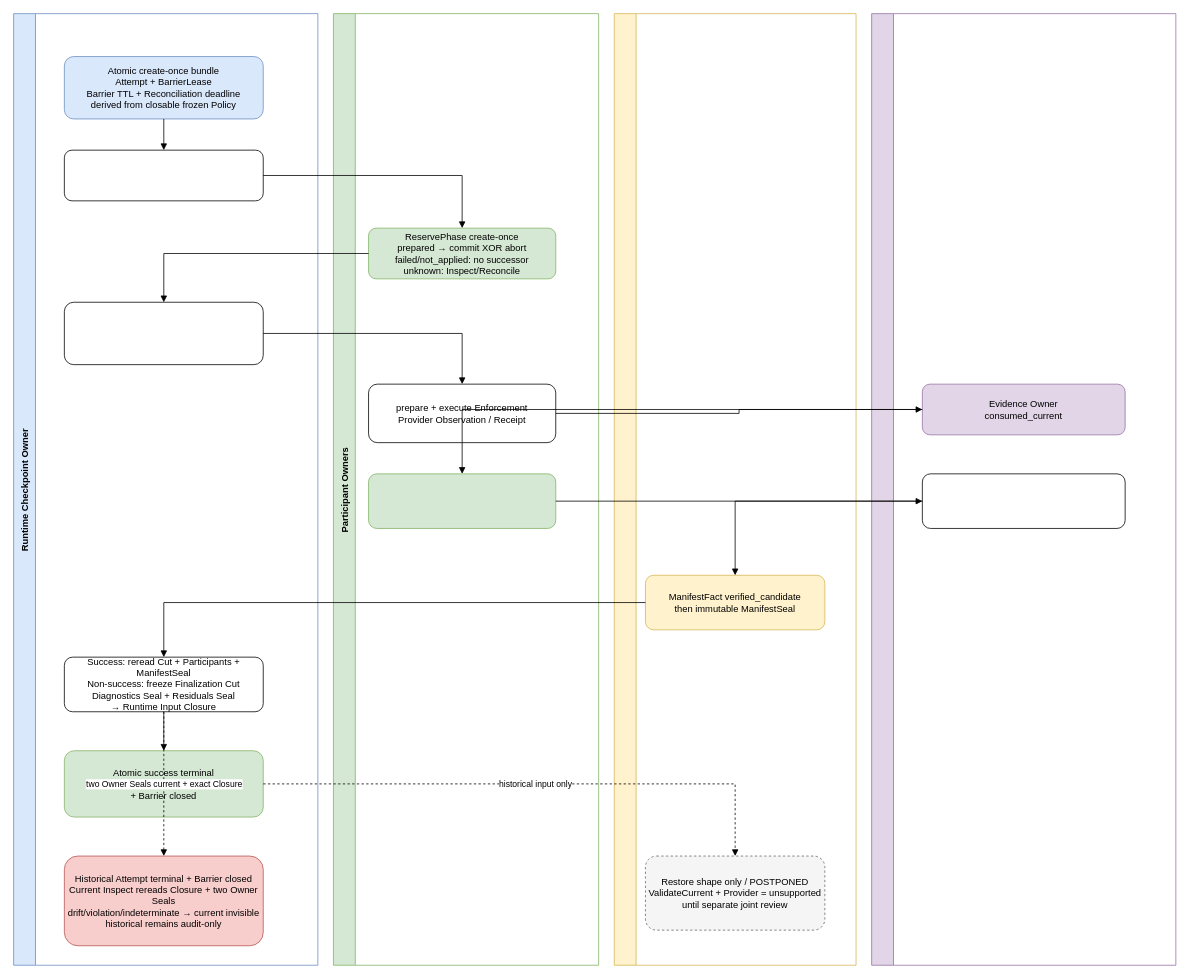
Some shapes in this 1190 by 979 pixel diagram are drawn without their labels. Each missing label, with the box of its shape:
Continuity Owner: (613, 13, 856, 965)
Evidence + Settlement Owners: (871, 13, 1176, 965)
Freeze immutable EffectCut + Attempt revision atomic: (64, 149, 263, 201)
InspectCurrent Reservation Admission → Review/Auth Permit → Begin: (64, 301, 263, 365)
Participant Owner Inspect/CAS DomainResult Fact: (368, 473, 556, 528)
Settlement V5 shared guard Participant ApplySettlement: (922, 473, 1125, 528)
